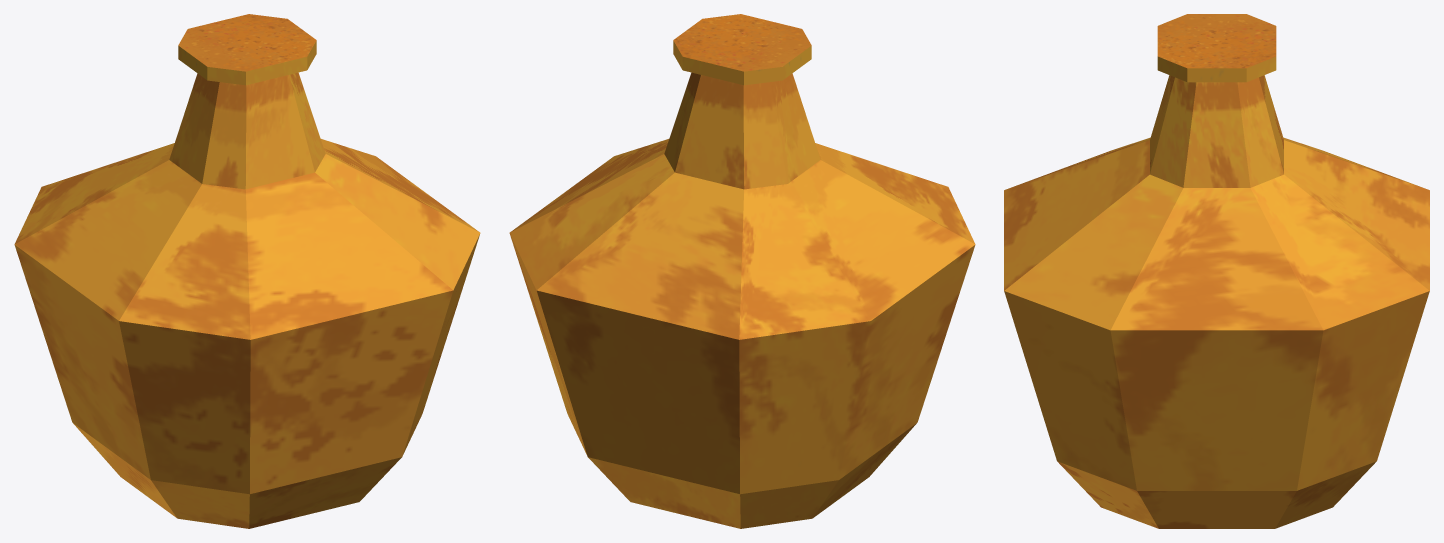
The model's file is SM_pot2.fbx.
The picture shows the model from 3 angles, left to right: view 1: azimuth 30°, elevation 25°; view 2: azimuth 150°, elevation 25°; view 3: azimuth 270°, elevation 25°; orthographic projection.
Parts seen in each view (by area): view 1: pot2; view 2: pot2; view 3: pot2.
Part boxes in pixels (box(x1,y1,x2,y2)): pot2: box(14, 14, 480, 528); pot2: box(509, 14, 975, 528); pot2: box(1004, 14, 1429, 528).
Bounding box in the file's own units: 7.49 × 8.53 × 7.5.
